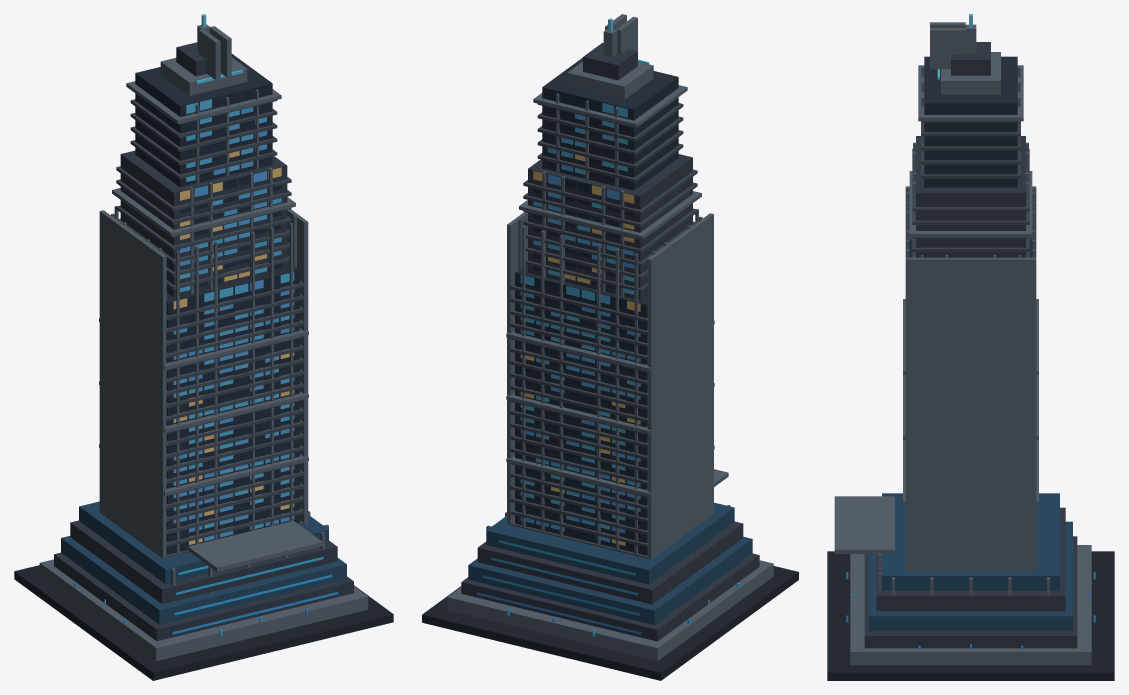
The model's file is eish-architectural-core.glb.
3 renders of one model, left to right at view 1: azimuth 30°, elevation 25°; view 2: azimuth 150°, elevation 25°; view 3: azimuth 270°, elevation 25°, orthographic. The views are drawn at different scales.
Parts seen in each view (by area): view 1: ArchitecturalCore; view 2: ArchitecturalCore; view 3: ArchitecturalCore.
Part boxes in pixels (left/top/right/bottom): ArchitecturalCore: left=14, top=14, right=393, bottom=680; ArchitecturalCore: left=422, top=14, right=798, bottom=680; ArchitecturalCore: left=827, top=14, right=1114, bottom=680.
Bounding box in the file's own units: 5 × 11.64 × 5.
